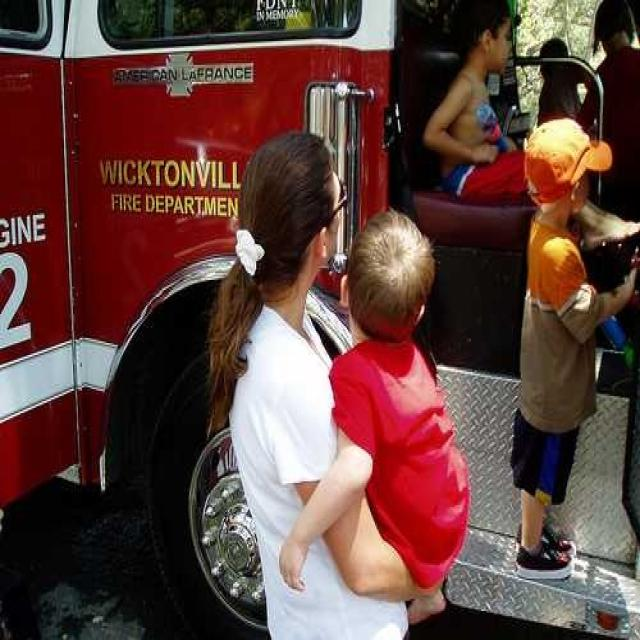ambulance: (13, 10, 600, 496)
